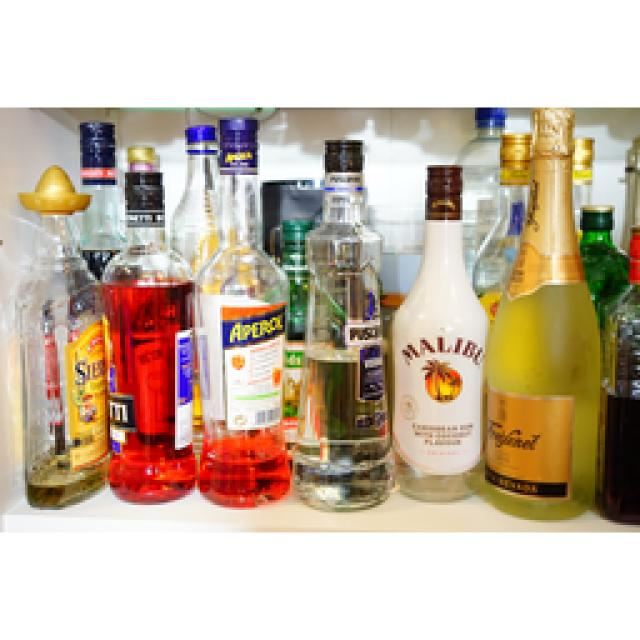glass_beverage_bottles: (490, 97, 588, 520), (395, 160, 487, 498), (302, 154, 386, 514), (202, 132, 280, 505)
